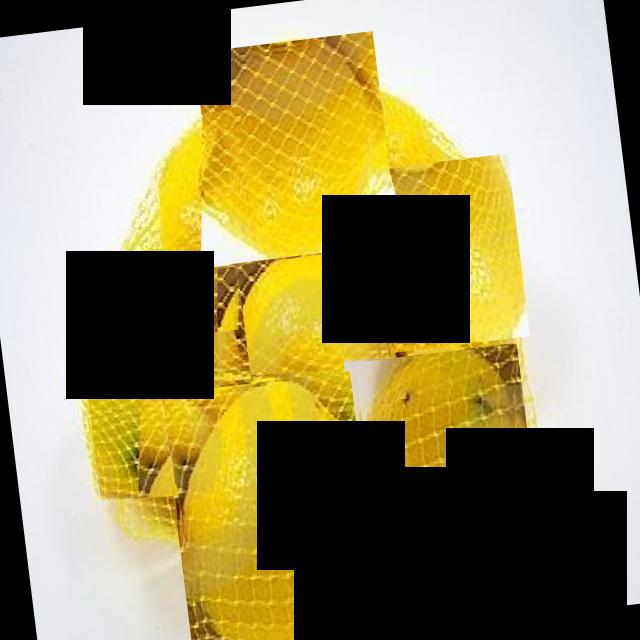lemon: (161, 371, 382, 640), (354, 342, 547, 613), (70, 242, 250, 508), (194, 31, 398, 265), (236, 248, 400, 442), (372, 154, 530, 352), (148, 107, 266, 337)
